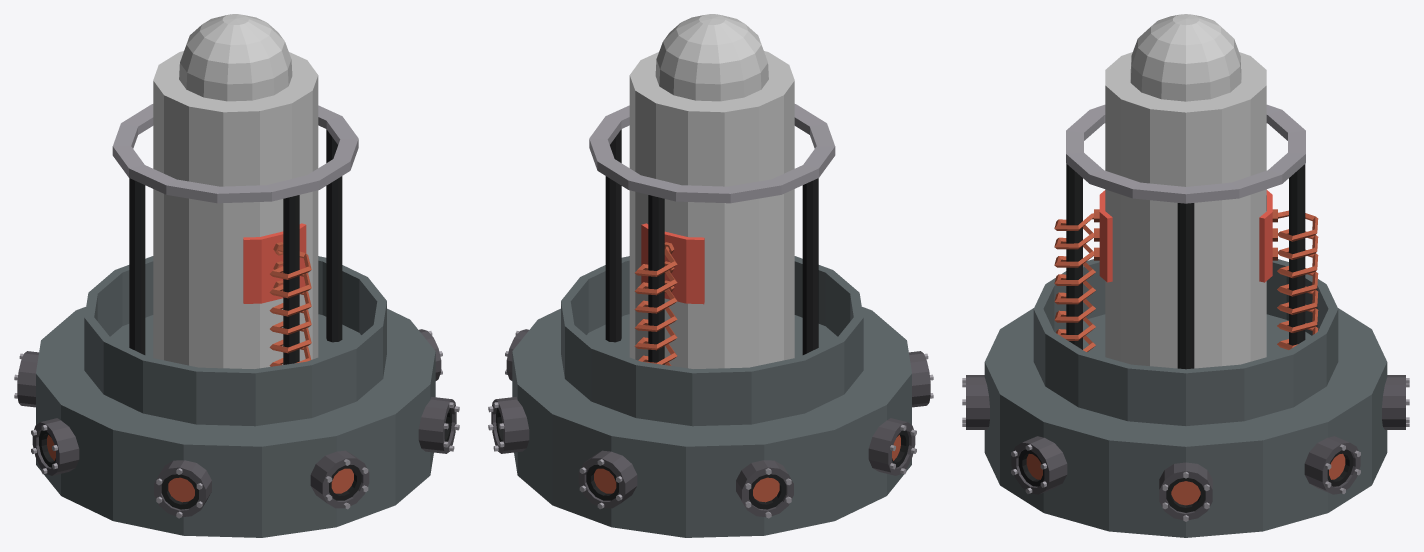
File: advanced_computing_circuit_edit.fbx
3 renders of one model, left to right at view 1: azimuth 30°, elevation 25°; view 2: azimuth 150°, elevation 25°; view 3: azimuth 270°, elevation 25°, orthographic.
Visible parts, largest first — view 1: advanced_computing_circuit_edit; view 2: advanced_computing_circuit_edit; view 3: advanced_computing_circuit_edit.
Boxes of the visible parts, box(x1,y1,x2,y2) form: advanced_computing_circuit_edit: box(14, 14, 459, 537); advanced_computing_circuit_edit: box(488, 14, 933, 537); advanced_computing_circuit_edit: box(962, 14, 1409, 537).
Bounding box in the file's own units: 1.39 × 1.48 × 1.39.
